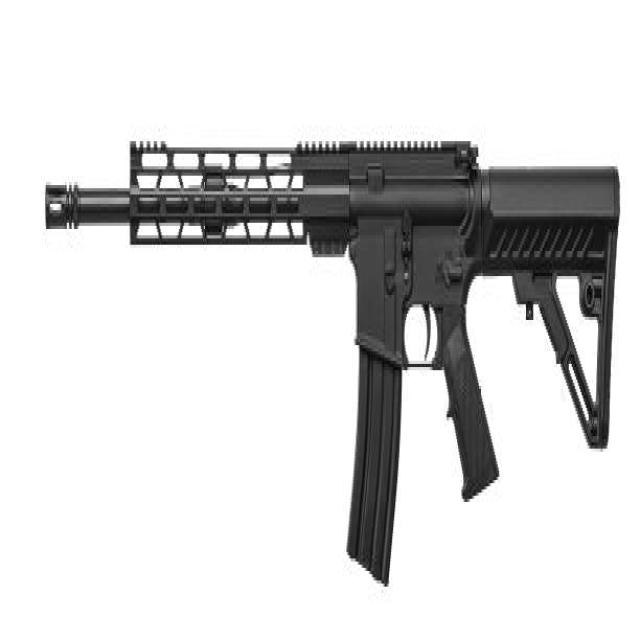rifle: (42, 103, 628, 609)
